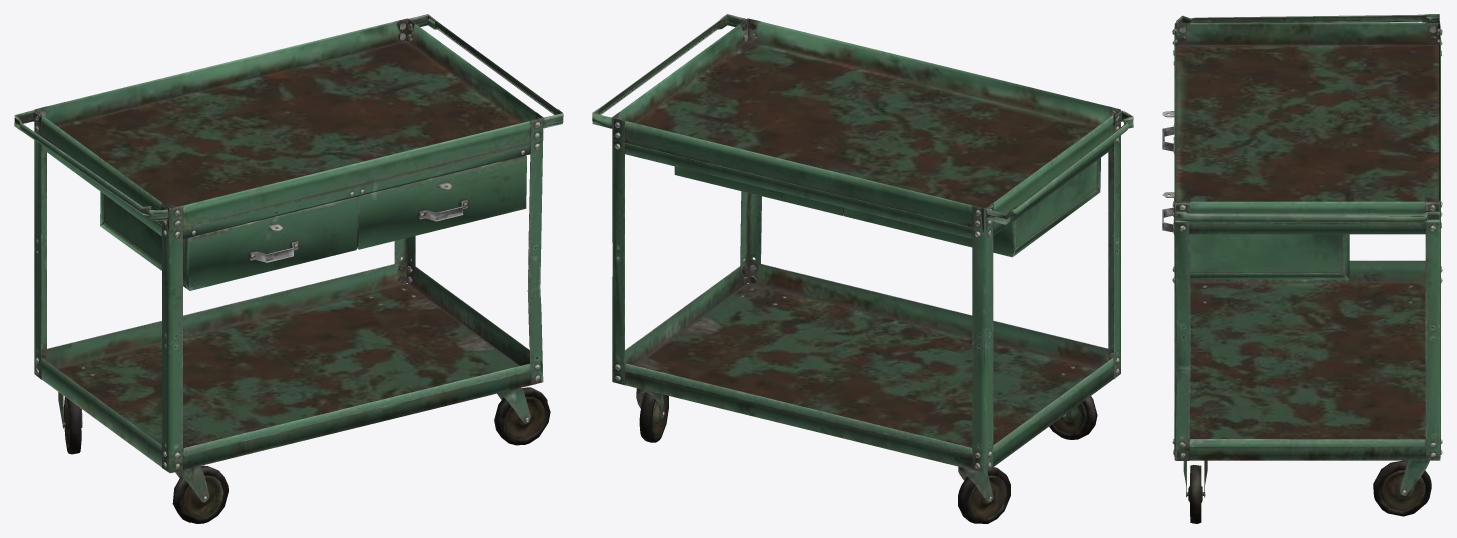
The model's file is tool_cart.glb.
3 renders of one model, left to right at view 1: azimuth 30°, elevation 25°; view 2: azimuth 150°, elevation 25°; view 3: azimuth 270°, elevation 25°, orthographic. The views are drawn at different scales.
Visible parts, largest first — view 1: tool_cart; view 2: tool_cart; view 3: tool_cart.
Boxes of the visible parts, x1,y1,x2,y2 form: tool_cart: [14, 14, 563, 523]; tool_cart: [592, 14, 1133, 523]; tool_cart: [1162, 14, 1442, 523].
Bounding box in the file's own units: 1.27 × 0.9646 × 0.7522.
Materials: 1 (1 with a texture image).
